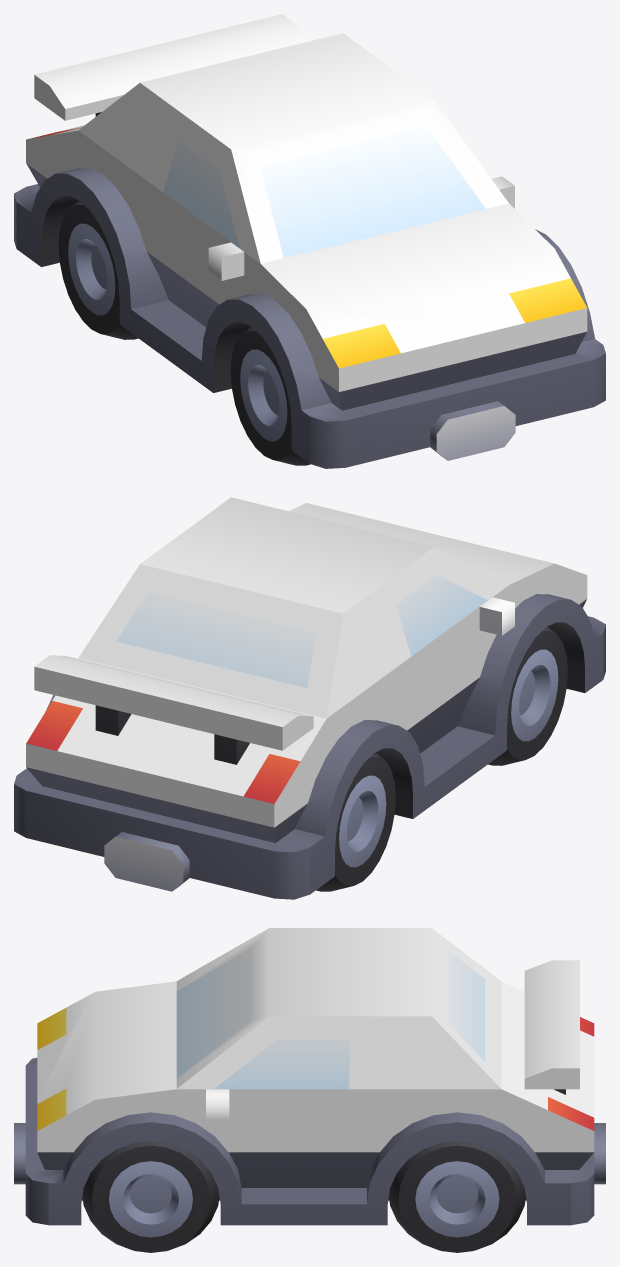
Rendered from sedan-sports.glb.
3 views of the same model, one above another, from view 1: azimuth 30°, elevation 25°; view 2: azimuth 150°, elevation 25°; view 3: azimuth 270°, elevation 25° (orthographic). The views are drawn at different scales.
Parts seen in each view (by area): view 1: body, spoiler, wheel-back-right, wheel-front-right; view 2: body, spoiler, wheel-back-right, wheel-front-right; view 3: body, wheel-back-left, wheel-front-left, spoiler.
Part boxes in pixels (box(x1,y1,x2,y2)): body: box(14, 33, 605, 468); spoiler: box(34, 14, 308, 120); wheel-back-right: box(58, 200, 138, 339); wheel-front-right: box(230, 326, 310, 465); body: box(14, 497, 605, 899); spoiler: box(34, 655, 313, 764); wheel-back-right: box(316, 752, 395, 891); wheel-front-right: box(488, 626, 567, 765); body: box(14, 928, 605, 1225); wheel-back-left: box(389, 1141, 525, 1252); wheel-front-left: box(82, 1141, 219, 1252); spoiler: box(524, 960, 579, 1094).
Bounding box in the file's own units: 1.3 × 1.1 × 2.55.
2 materials, 1 textured.
